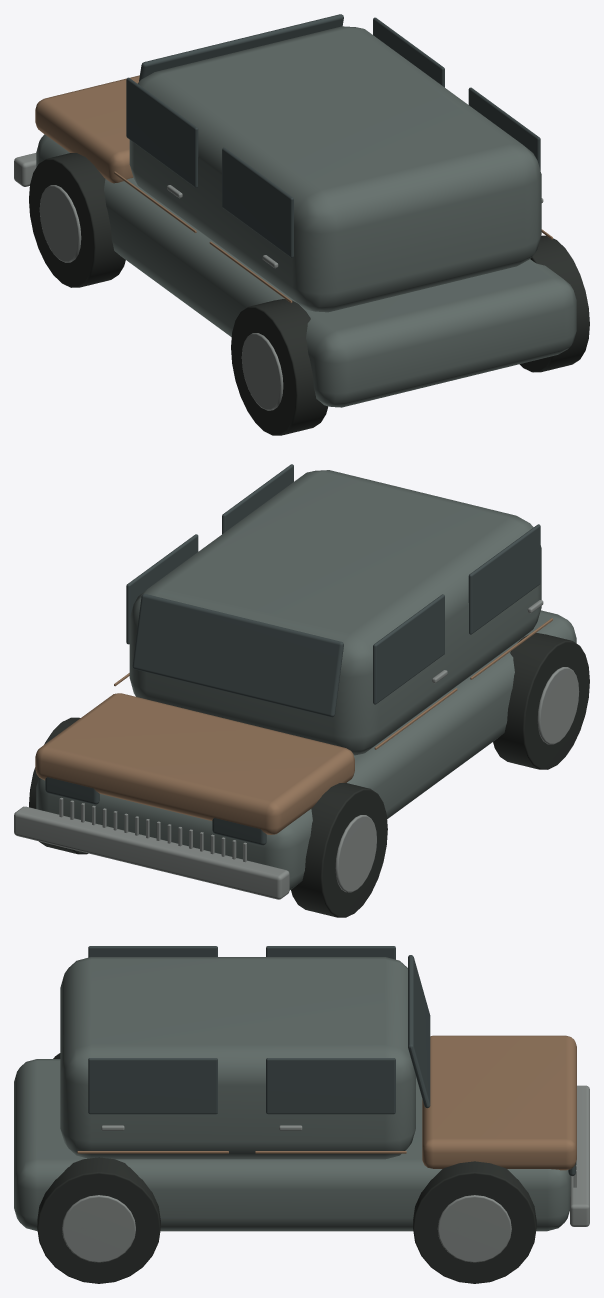
The model's file is wreck.glb.
3 renders of one model, top to bottom at view 1: azimuth 30°, elevation 25°; view 2: azimuth 150°, elevation 25°; view 3: azimuth 270°, elevation 25°, orthographic. The views are drawn at different scales.
Parts seen in each view (by area): view 1: Cabin, Chassis, Tire, Tire.001, Hood, Side glass.001, Side glass, Tire.002, Windshield, Wheel rim, Wheel rim.001, Side glass.002 (+2 smaller); view 2: Cabin, Hood, Chassis, Windshield, Bumper, Tire, Tire.001, Side glass, Side glass.001, Wheel rim, Wheel rim.001, Side glass.003 (+4 smaller); view 3: Cabin, Chassis, Hood, Tire.002, Tire.003, Side glass.002, Side glass.003, Wheel rim.002, Wheel rim.003, Windshield, Bumper, Side glass.001 (+3 smaller).
Part boxes in pixels (bbox=[...]): Cabin: bbox=[129, 26, 541, 312]; Chassis: bbox=[36, 134, 576, 407]; Tire: bbox=[231, 299, 328, 435]; Tire.001: bbox=[29, 153, 125, 287]; Hood: bbox=[35, 75, 139, 183]; Side glass.001: bbox=[126, 77, 198, 187]; Side glass: bbox=[222, 147, 293, 257]; Tire.002: bbox=[519, 235, 589, 372]; Windshield: bbox=[139, 14, 343, 81]; Wheel rim: bbox=[241, 333, 283, 410]; Wheel rim.001: bbox=[39, 185, 81, 262]; Side glass.002: bbox=[468, 87, 540, 170]; Cabin: bbox=[129, 470, 541, 755]; Hood: bbox=[35, 693, 354, 834]; Chassis: bbox=[36, 610, 576, 890]; Windshield: bbox=[132, 594, 343, 717]; Bumper: bbox=[14, 806, 289, 899]; Tire: bbox=[493, 633, 589, 769]; Tire.001: bbox=[291, 783, 387, 917]; Side glass: bbox=[468, 524, 540, 634]; Side glass.001: bbox=[373, 594, 444, 704]; Wheel rim: bbox=[537, 667, 579, 744]; Wheel rim.001: bbox=[335, 815, 376, 892]; Side glass.003: bbox=[126, 534, 198, 644]; Cabin: bbox=[60, 957, 415, 1159]; Chassis: bbox=[14, 1059, 570, 1231]; Hood: bbox=[422, 1035, 576, 1170]; Tire.002: bbox=[37, 1157, 160, 1283]; Tire.003: bbox=[413, 1161, 536, 1283]; Side glass.002: bbox=[88, 1058, 217, 1114]; Side glass.003: bbox=[266, 1058, 395, 1114]; Wheel rim.002: bbox=[62, 1195, 135, 1262]; Wheel rim.003: bbox=[437, 1195, 511, 1262]; Windshield: bbox=[408, 955, 430, 1108]; Bumper: bbox=[570, 1085, 589, 1226]; Side glass.001: bbox=[266, 946, 395, 959].
Bounding box in the file's own units: 2.07 × 1.56 × 3.72.
